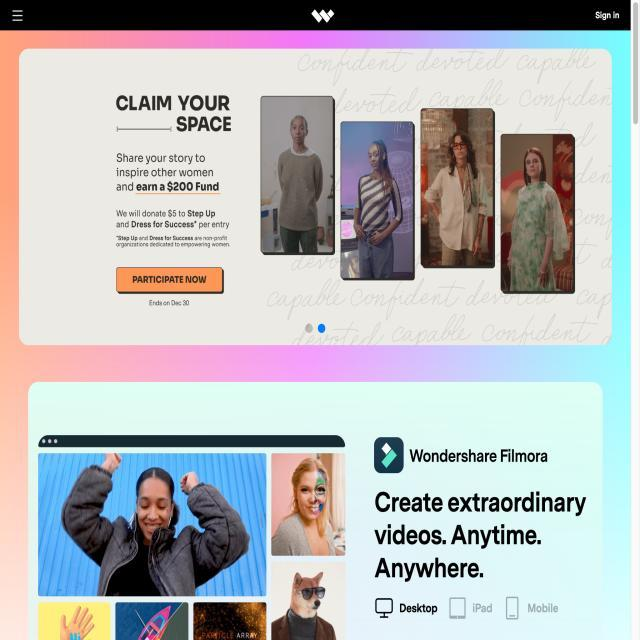button: (112, 257, 234, 303)
